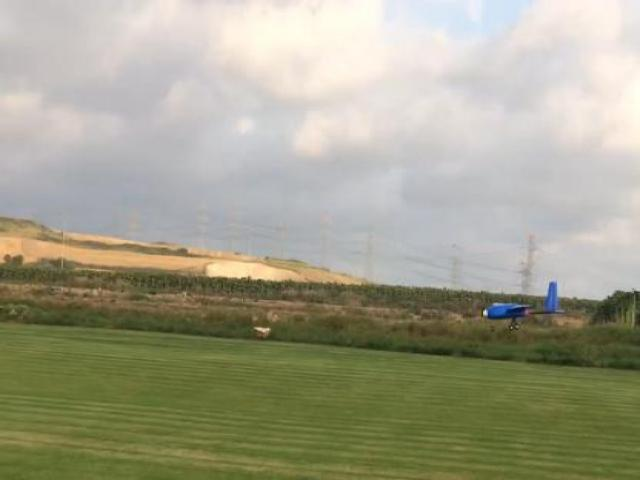uav: (472, 275, 572, 339)
